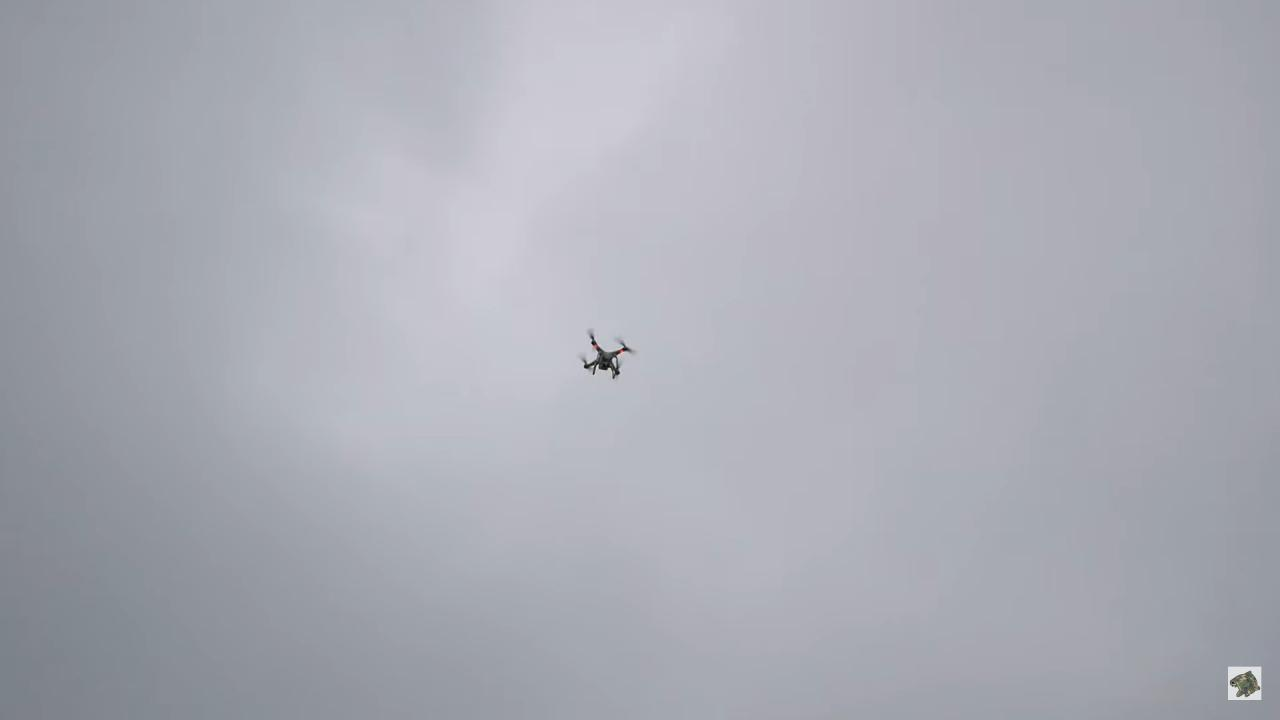Drone: (568, 321, 643, 388)
